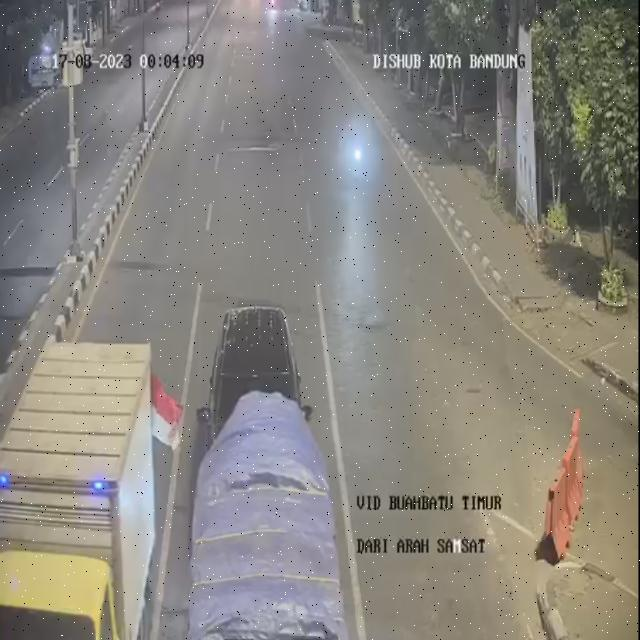cars: (190, 387, 348, 636), (216, 291, 309, 426)
motorcycle: (335, 98, 379, 196)
truck: (0, 326, 157, 636)
